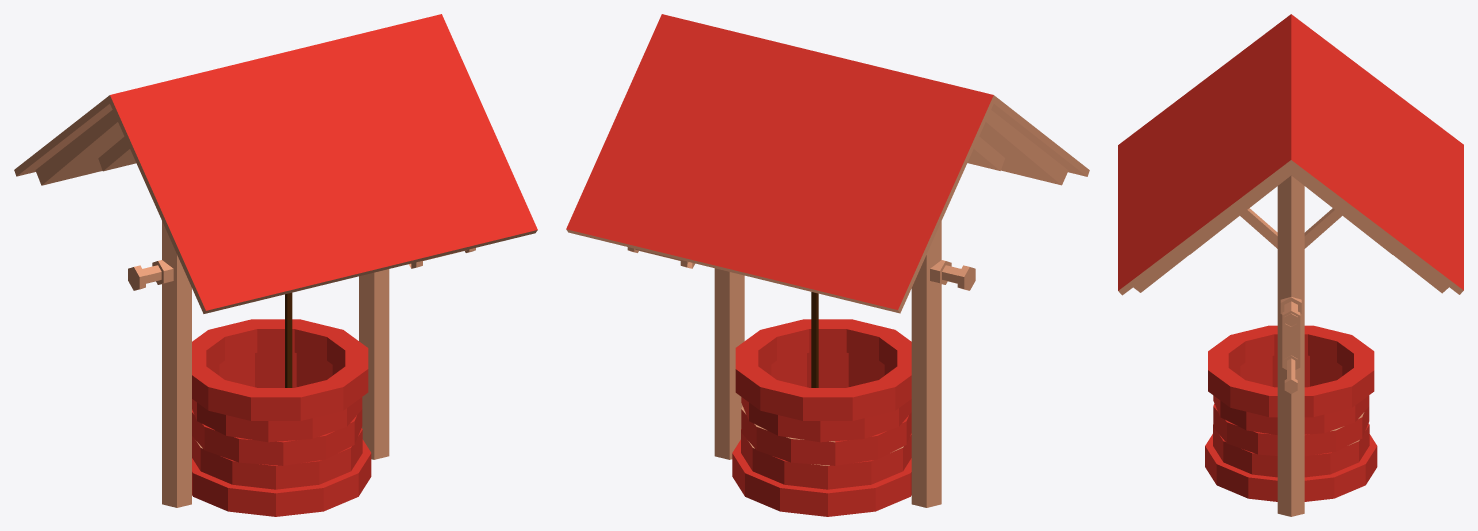
Rendered from Studnia.fbx.
The picture shows the model from 3 angles, left to right: view 1: azimuth 30°, elevation 25°; view 2: azimuth 150°, elevation 25°; view 3: azimuth 270°, elevation 25°; orthographic projection. The views are drawn at different scales.
Visible parts, largest first — view 1: Studnia; view 2: Studnia; view 3: Studnia.
Part boxes in pixels (left/top/right/bottom): Studnia: left=14, top=14, right=537, bottom=516; Studnia: left=566, top=14, right=1089, bottom=516; Studnia: left=1118, top=14, right=1463, bottom=516.
Size of the model in its own units: 241 by 268 by 221.
